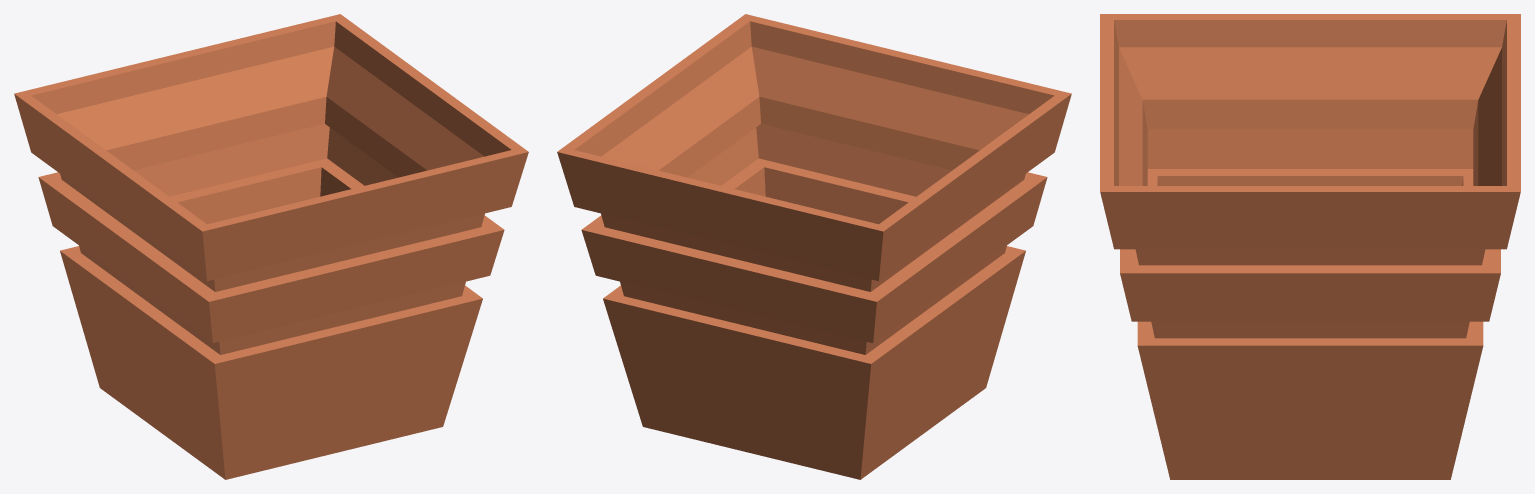
The model's file is pot_6_empty.fbx.
The picture shows the model from 3 angles, left to right: view 1: azimuth 30°, elevation 25°; view 2: azimuth 150°, elevation 25°; view 3: azimuth 270°, elevation 25°; orthographic projection. The views are drawn at different scales.
Parts seen in each view (by area): view 1: pot_empty; view 2: pot_empty; view 3: pot_empty.
Boxes of the visible parts, left/top/right/bottom form: pot_empty: left=14, top=14, right=528, bottom=479; pot_empty: left=557, top=14, right=1071, bottom=479; pot_empty: left=1100, top=14, right=1520, bottom=479.
Size of the model in its own units: 150 by 125 by 150.
